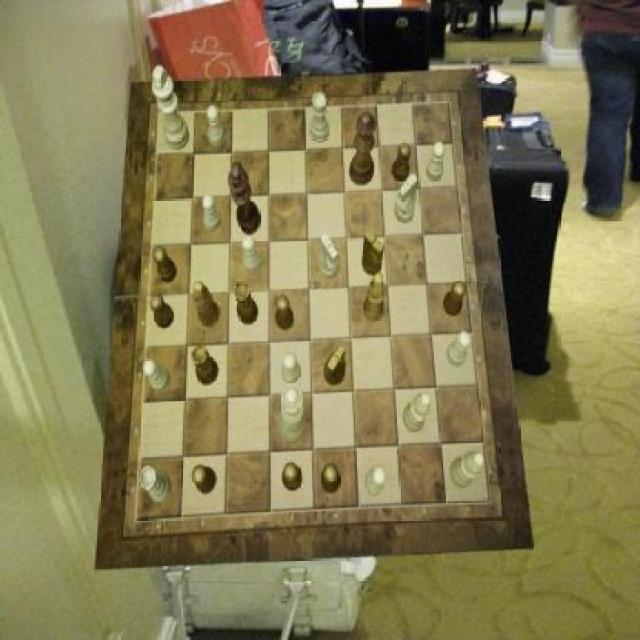bishop: (194, 282, 220, 328), (363, 274, 385, 321)
black-bishop: (228, 162, 260, 236)
black-king: (361, 230, 384, 276), (324, 345, 348, 386)
black-knight: (152, 246, 176, 282), (443, 280, 466, 316), (151, 294, 175, 328), (392, 143, 412, 181), (192, 466, 217, 496), (276, 296, 294, 332), (320, 463, 340, 494), (283, 463, 303, 491)
black-pawn: (349, 112, 376, 186)
black-queen: (192, 345, 220, 386), (234, 282, 258, 326)
black-rook: (450, 451, 484, 488), (403, 394, 431, 434)
white-bishop: (152, 66, 190, 150)
white-king: (396, 174, 418, 223), (318, 232, 339, 278)
white-knight: (143, 358, 170, 392), (448, 331, 472, 367), (243, 235, 263, 273), (365, 464, 387, 496), (208, 105, 225, 146), (202, 194, 220, 231), (428, 143, 445, 182), (282, 354, 300, 384)
white-pawn: (279, 383, 306, 441)
white-queen: (140, 465, 172, 502), (311, 92, 331, 143)
